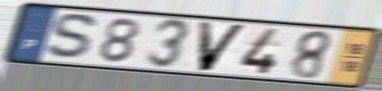3: (143, 15, 193, 73)
4: (238, 27, 280, 76)
8: (286, 29, 334, 80), (99, 16, 142, 65)
S: (42, 11, 103, 62)
V: (196, 19, 251, 73)
